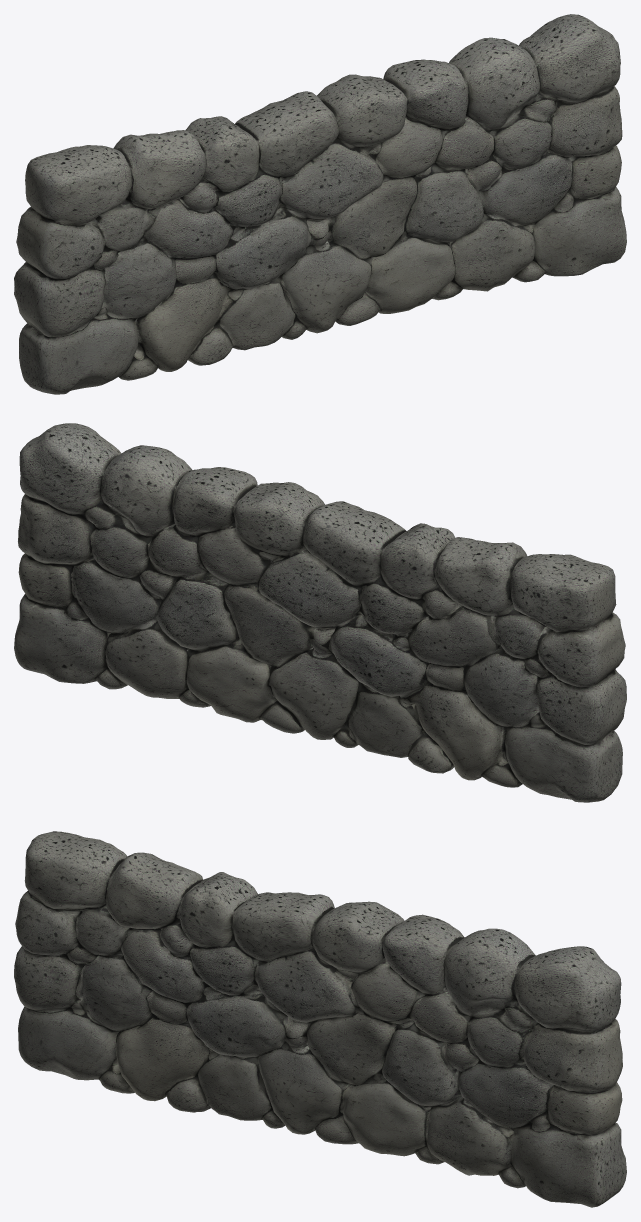
File: dry-stone-wall.glb
3 views of the same model, one above another, from view 1: azimuth 30°, elevation 25°; view 2: azimuth 150°, elevation 25°; view 3: azimuth 330°, elevation 25° (orthographic).
Parts seen in each view (by area): view 1: Mesh_0.005; view 2: Mesh_0.005; view 3: Mesh_0.005.
Boxes of the visible parts, left/top/right/bottom form: Mesh_0.005: left=14, top=14, right=626, bottom=394; Mesh_0.005: left=14, top=423, right=626, bottom=802; Mesh_0.005: left=14, top=831, right=626, bottom=1207.
Size of the model in its own units: 3.06 by 1.2 by 0.3707.
1 material, 1 textured.
